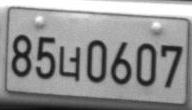0: (135, 42, 157, 87), (85, 39, 107, 83)
5: (35, 36, 56, 79)
6: (110, 41, 132, 85)
7: (160, 44, 183, 88)
8: (10, 33, 32, 78)
너: (58, 45, 81, 82)
